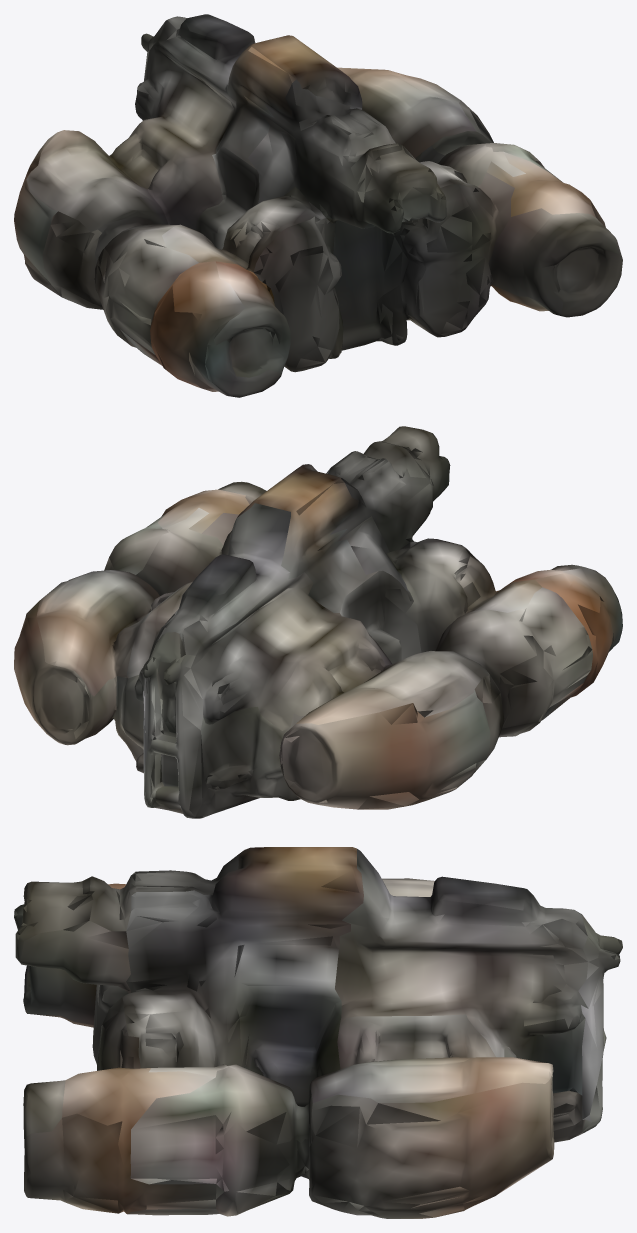
File: cargo_ship.glb
The picture shows the model from 3 angles, top to bottom: view 1: azimuth 30°, elevation 25°; view 2: azimuth 150°, elevation 25°; view 3: azimuth 270°, elevation 25°; orthographic projection. The views are drawn at different scales.
Visible parts, largest first — view 1: cargo; view 2: cargo; view 3: cargo.
Part boxes in pixels (left/top/right/bottom): cargo: left=14, top=14, right=622, bottom=397; cargo: left=14, top=426, right=622, bottom=818; cargo: left=14, top=847, right=622, bottom=1218.
Size of the model in its own units: 0.135 by 0.0731 by 0.1404.
Materials: 1 (1 with a texture image).
